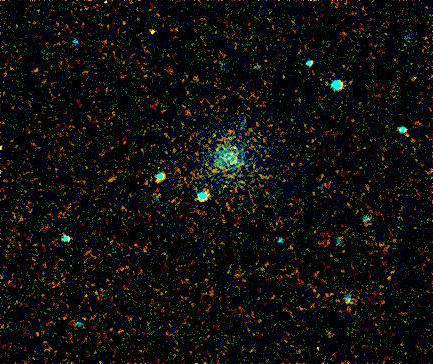star: (133, 15, 163, 45)
